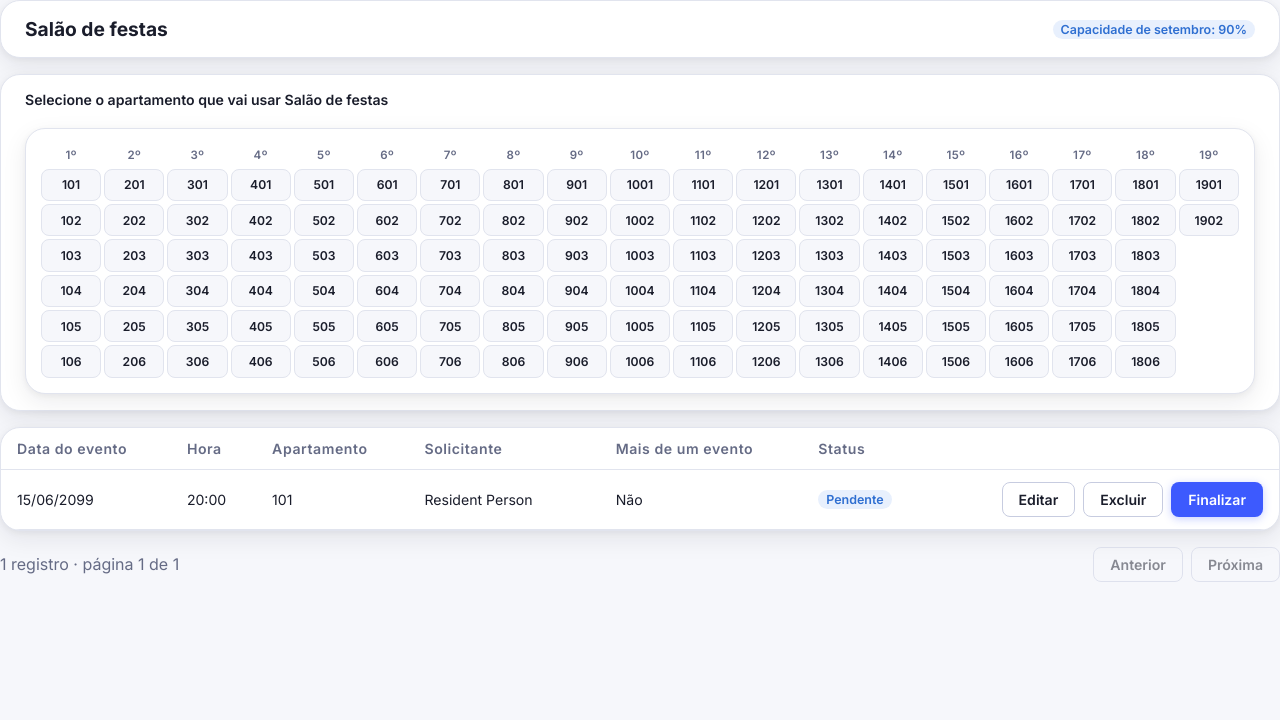
Test: SchedulingRoomPanel › shows an error toast when updating fails
Click the button "Editar": (1038, 499) [1002,482,1075,517]
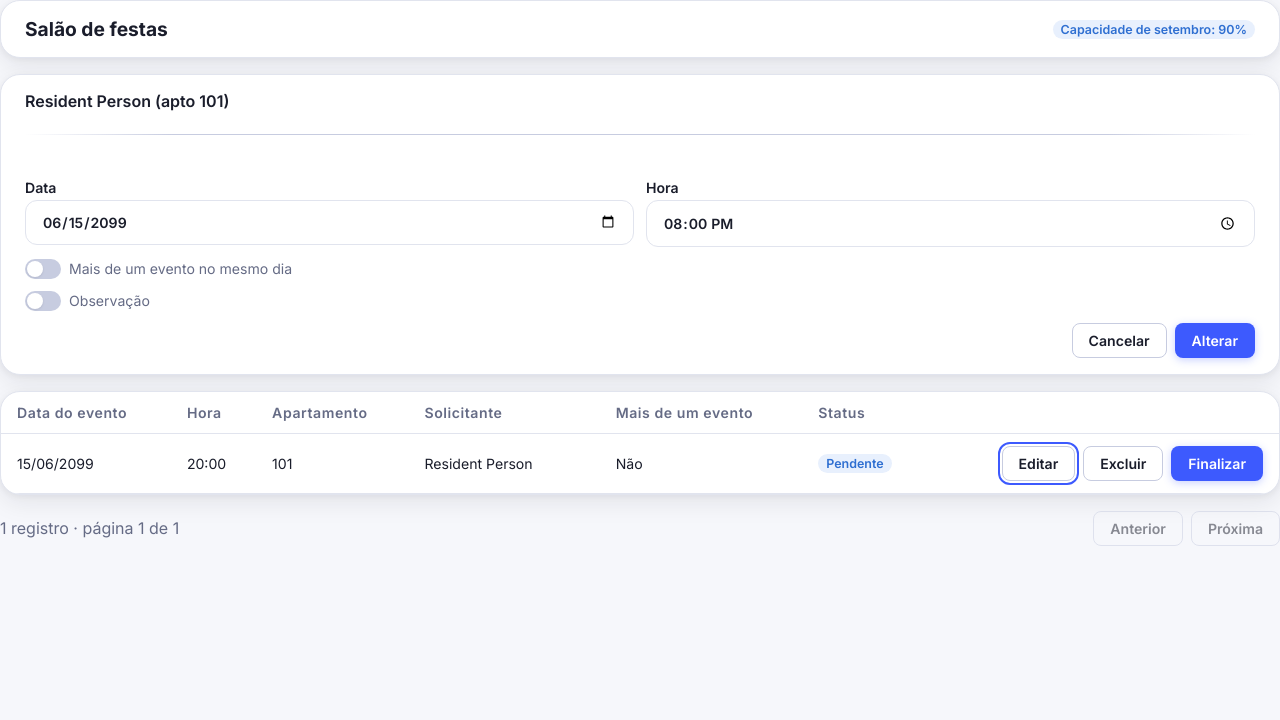
Click the button "Alterar": (1215, 340) [1175,323,1255,358]
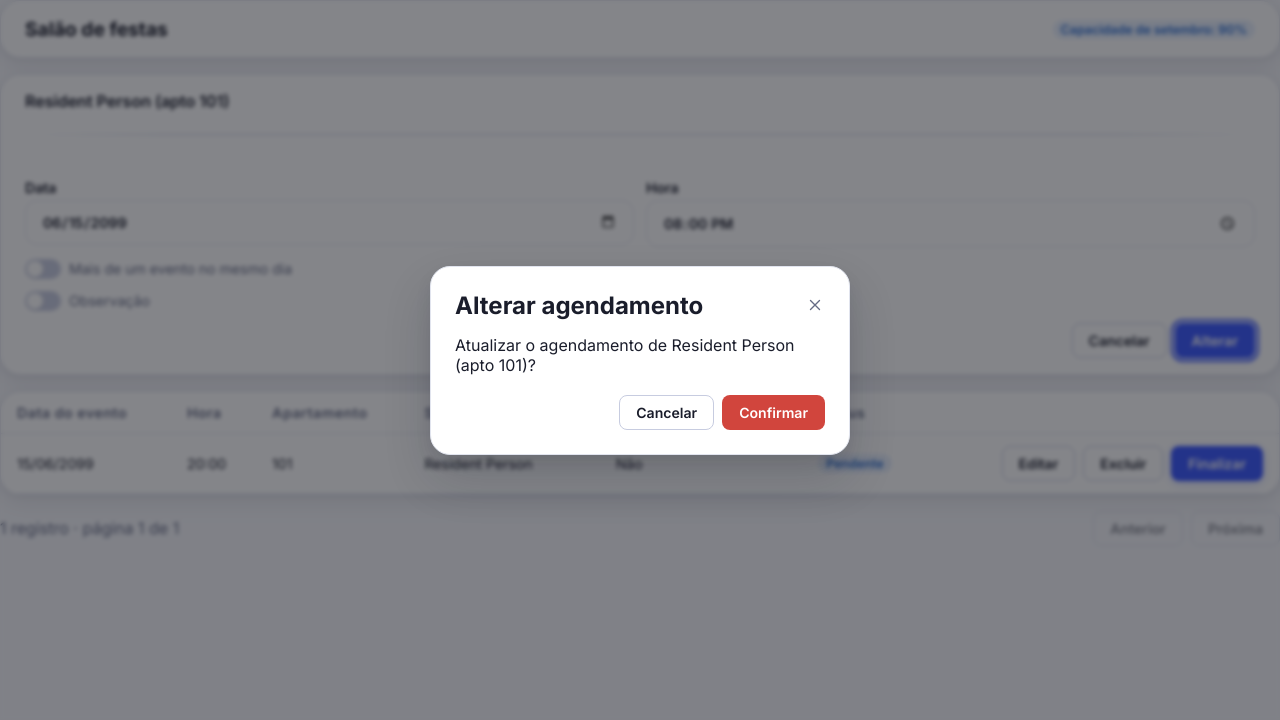
Click the button "Confirmar": (774, 412) [722,394,825,430]
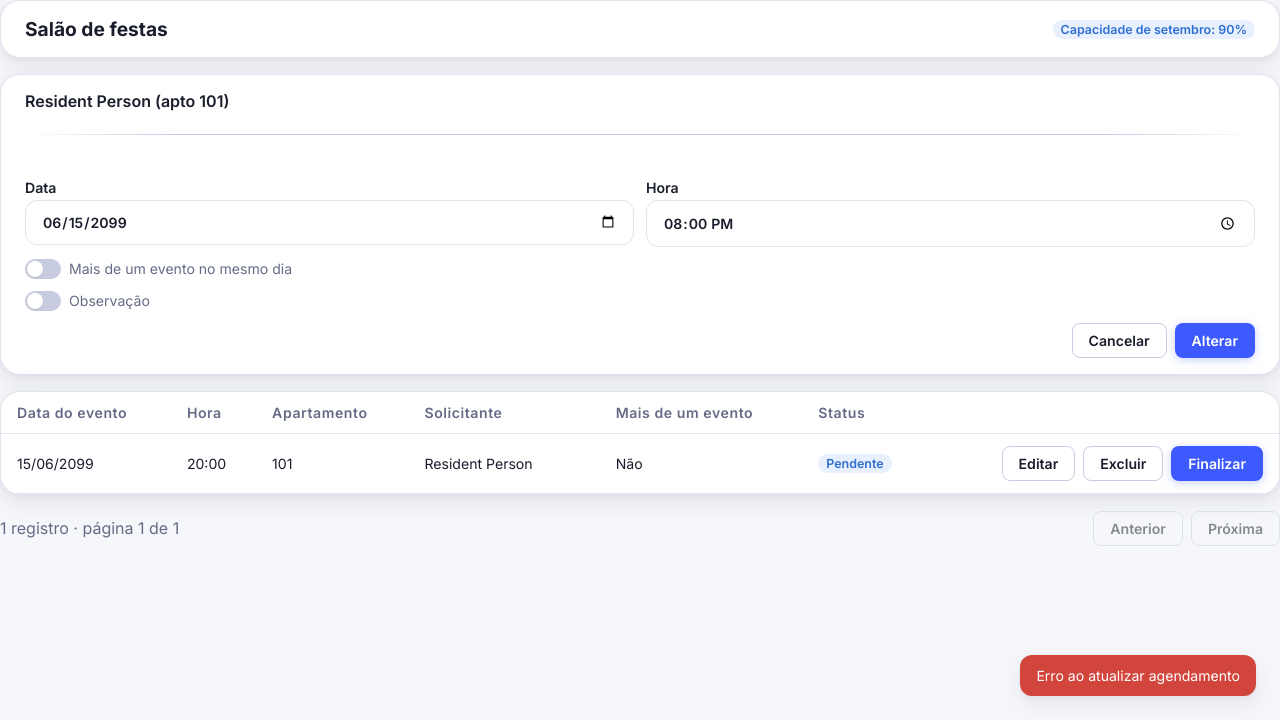
Expected: the text "Erro ao atualizar agendamento" is shown, [1020,655,1256,696]
